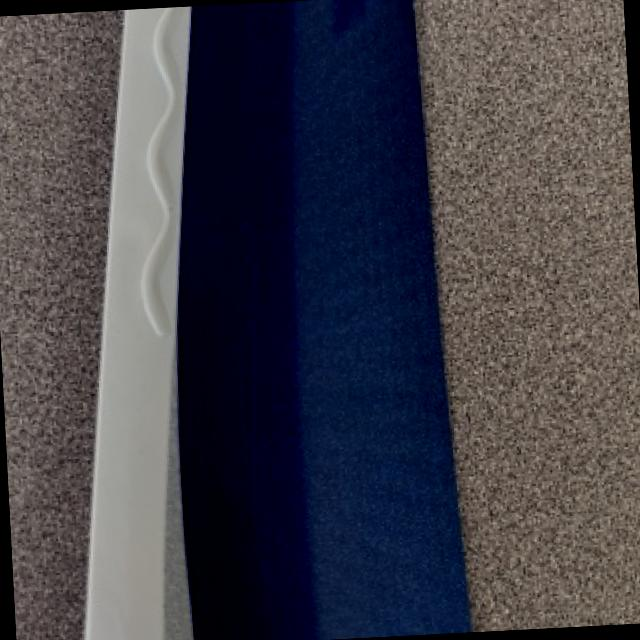healthy: (85, 0, 468, 640)
